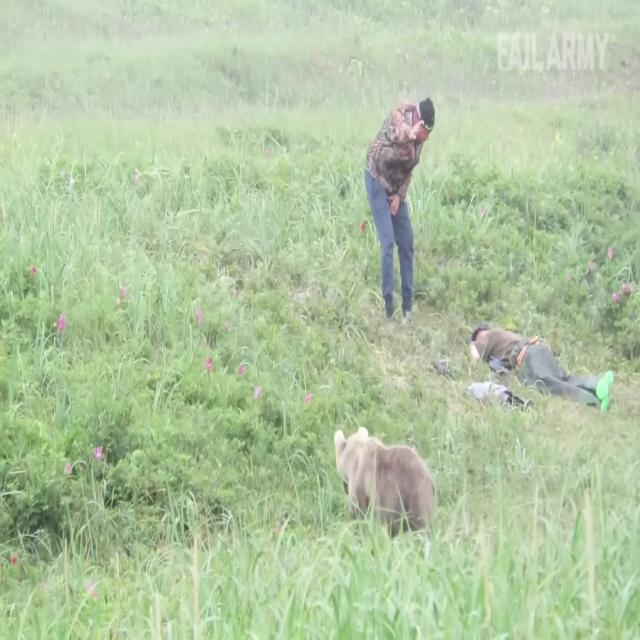person: (362, 97, 432, 317), (469, 324, 614, 414)
